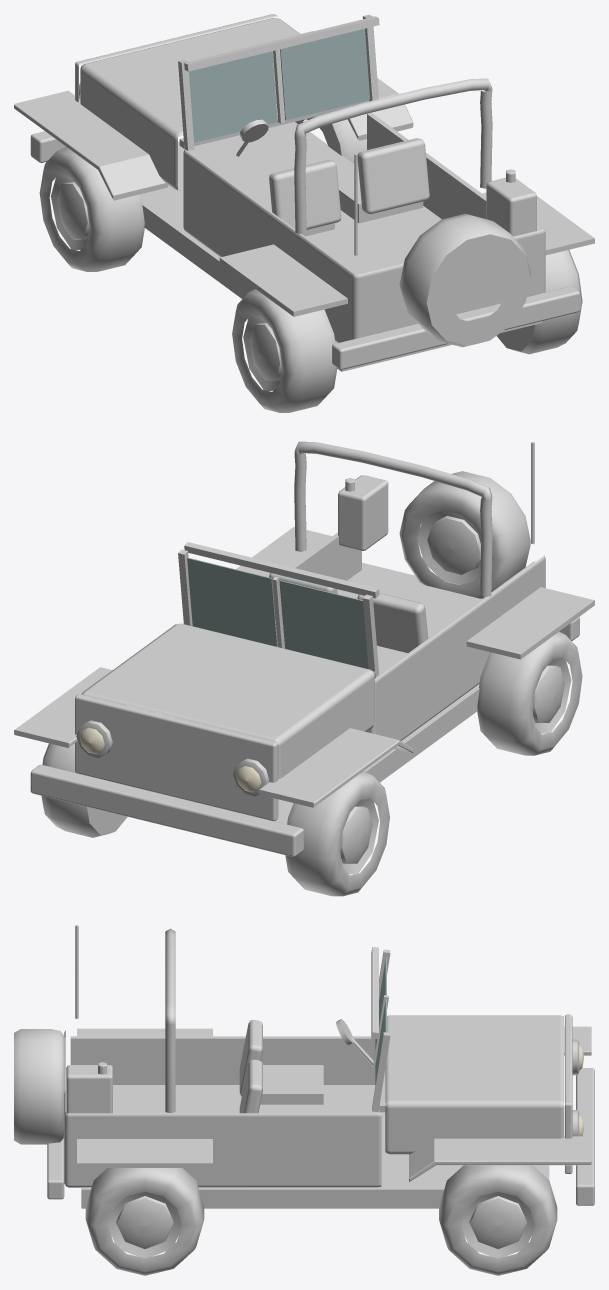
Rendered from ArmyJeep.glb.
3 views of the same model, one above another, from view 1: azimuth 30°, elevation 25°; view 2: azimuth 150°, elevation 25°; view 3: azimuth 270°, elevation 25° (orthographic). The views are drawn at different scales.
Visible parts, largest first — view 1: Body, Glass; view 2: Body, Glass, Lamp; view 3: Body, Glass.
Boxes of the visible parts, box(x1,y1,x2,y2) form: Body: box(14, 14, 594, 412); Glass: box(189, 28, 369, 142); Body: box(14, 441, 594, 896); Glass: box(187, 557, 368, 668); Lamp: box(80, 727, 261, 792); Body: box(14, 925, 594, 1275); Glass: box(375, 958, 386, 1084).
Bounding box in the file's own units: 7.5 × 6.44 × 13.65.
